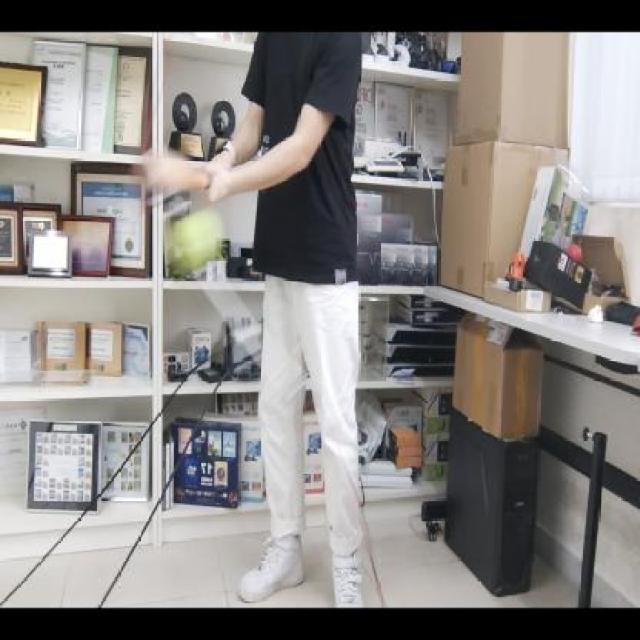baseball: (166, 206, 232, 271)
